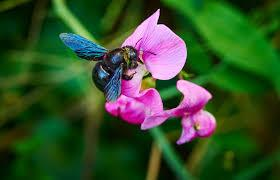Xylocopa: (60, 30, 142, 101)
